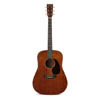guitar: (31, 4, 68, 95)
